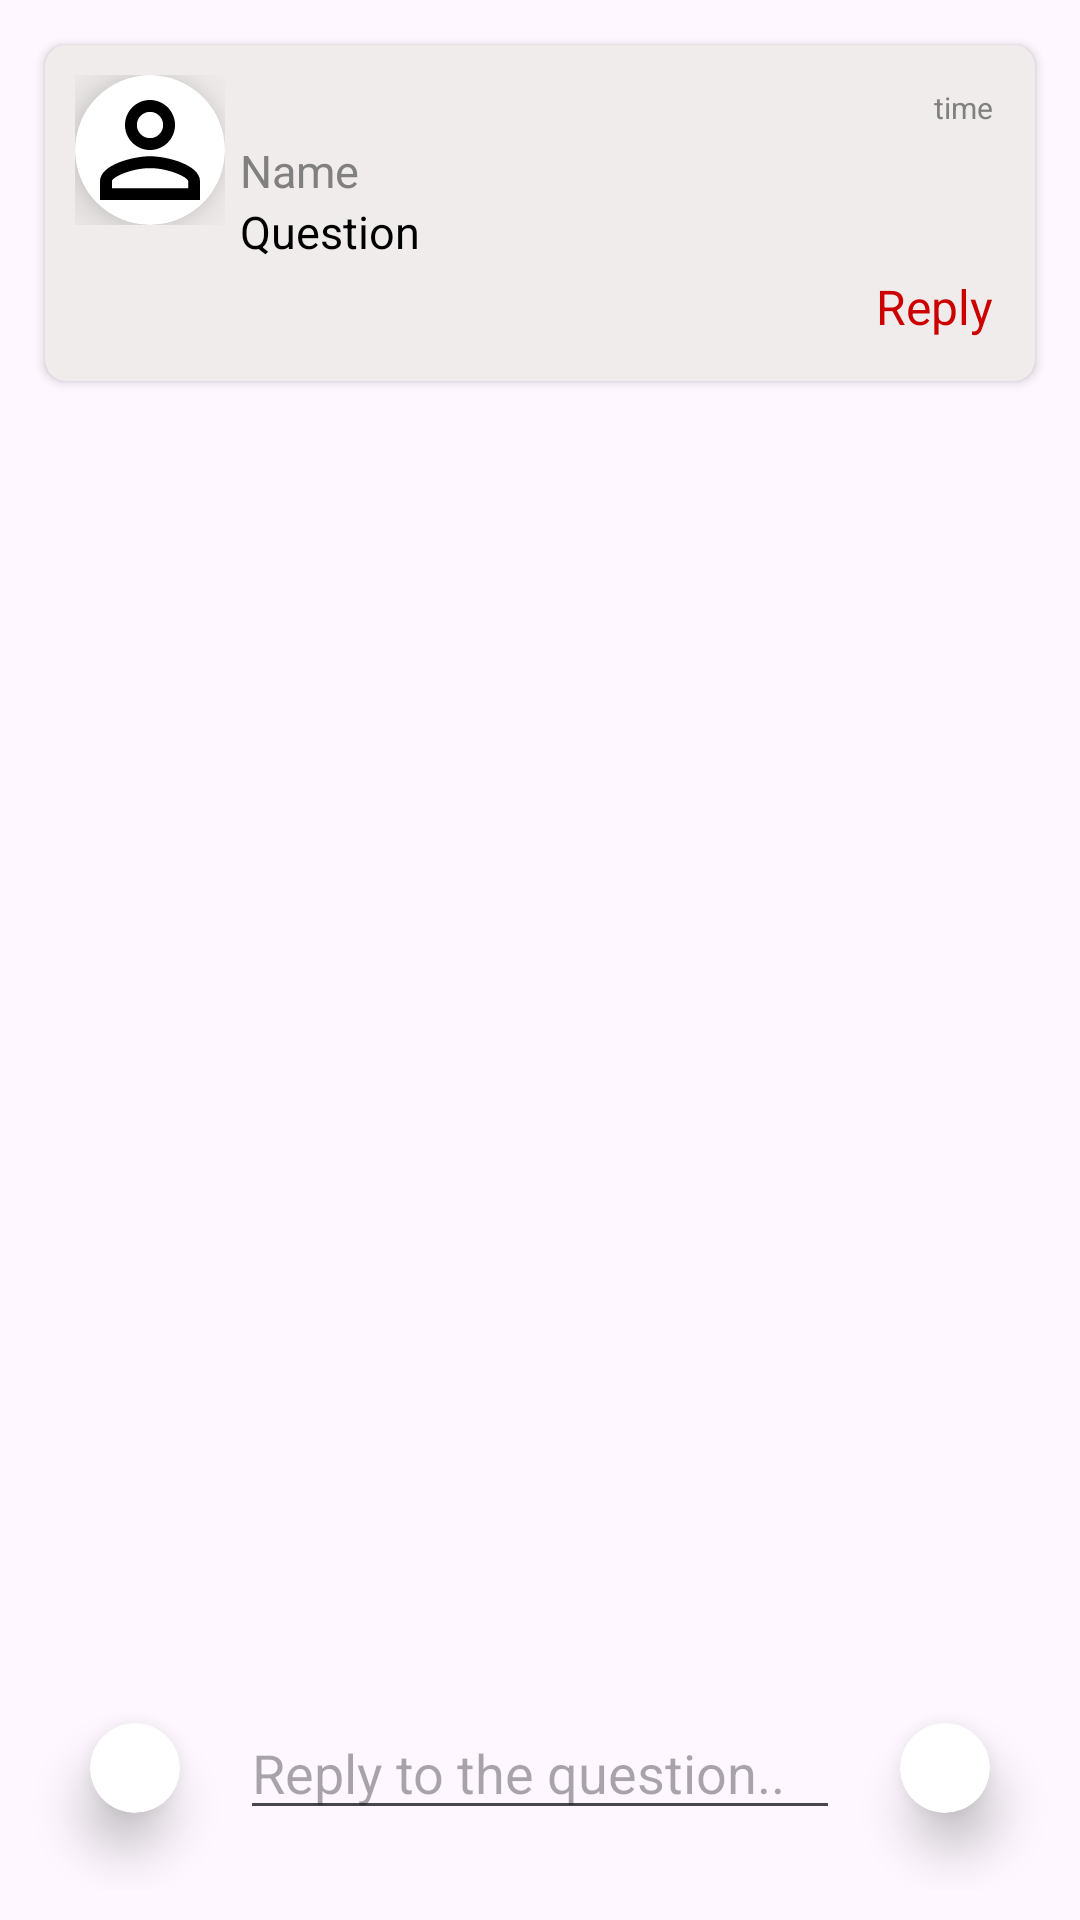

Screen size 1080*1920. Icon name, then its box in pixels as {"left": x1, "top": y1, "right": x2, "bottom": y2}:
person: {"left": 76, "top": 75, "right": 224, "bottom": 225}
